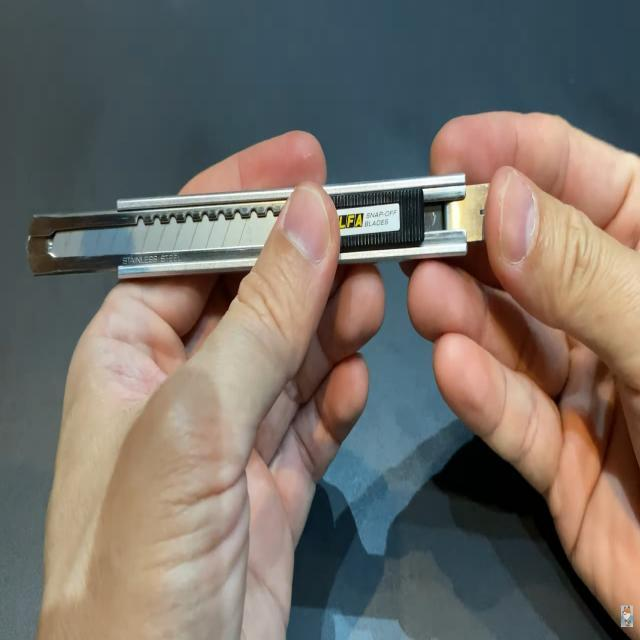cutter: (0, 50, 617, 368)
